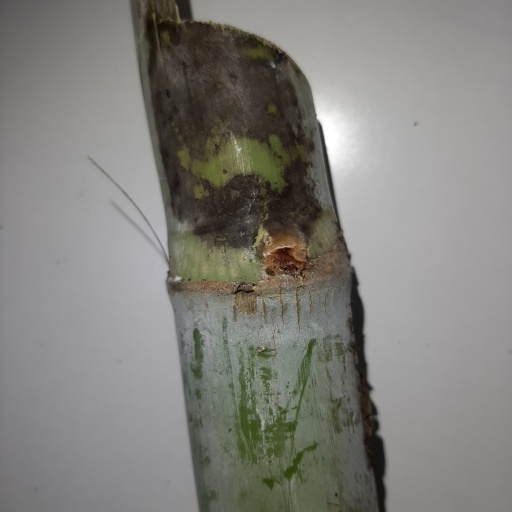Damage_Bud: (258, 232, 307, 274)
